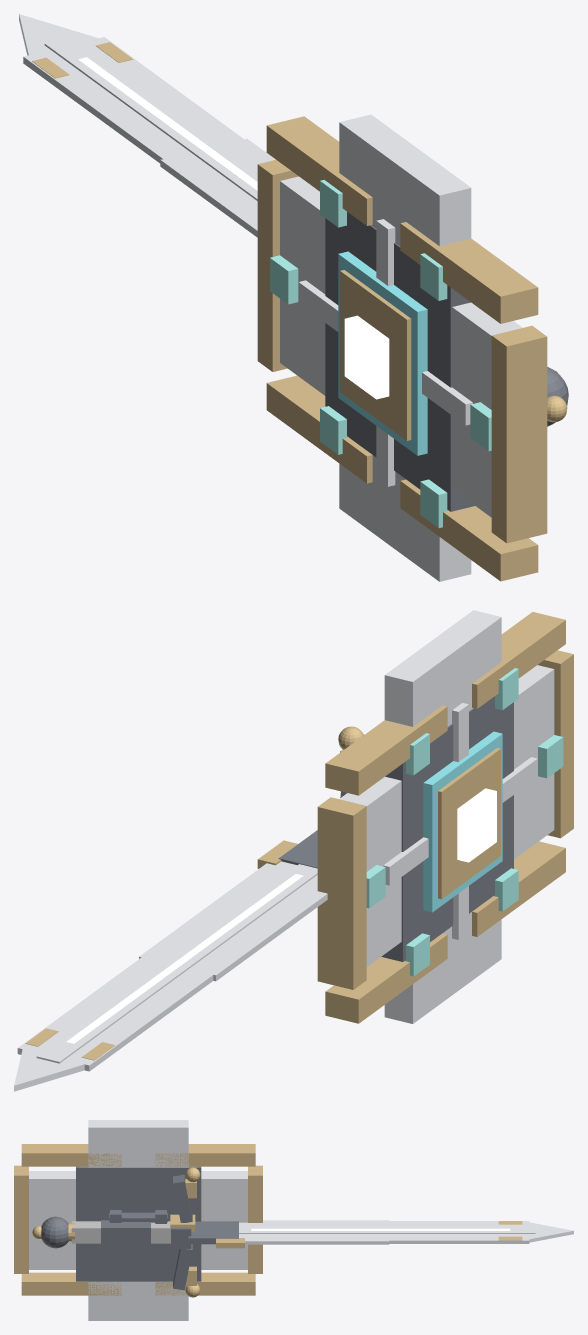
File: art_resonant_bulwark.fbx
3 renders of one model, top to bottom at view 1: azimuth 30°, elevation 25°; view 2: azimuth 150°, elevation 25°; view 3: azimuth 270°, elevation 25°, orthographic. The views are drawn at different scales.
Visible parts, largest first — view 1: BronzeRimBot, CenterDiaphragm, OuterPlateL, OuterPlateTop, OuterPlateBot, OuterPlateR, BronzeRimBL, SpeakerHorn, OffhandShield, BronzeRimBR, BronzeRimTL, SonicWaveRing1 (+15 smaller); view 2: CenterDiaphragm, BronzeRimTop, OuterPlateL, OuterPlateBot, OuterPlateTop, BladeFuller, BronzeRimTL, OuterPlateR, SpeakerHorn, OffhandShield, BronzeRimTR, EdgeBack1 (+16 smaller); view 3: CenterDiaphragm, OuterPlateL, OuterPlateR, OuterPlateBot, OuterPlateTop, BronzeRimBL, BronzeRimTL, BronzeRimBR, BladeFuller, BronzeRimTR, BronzeRimBot, EdgeFwd1 (+16 smaller).
Part boxes in pixels (x1,y1,x2,y2): BronzeRimBot: (491, 325, 547, 543); CenterDiaphragm: (325, 212, 474, 511); OuterPlateL: (339, 114, 471, 246); OuterPlateTop: (280, 176, 325, 395); OuterPlateBot: (452, 302, 522, 517); OuterPlateR: (339, 443, 471, 581); BronzeRimBL: (400, 222, 538, 323); SpeakerHorn: (340, 270, 411, 440); OffhandShield: (270, 180, 491, 528); BronzeRimBR: (400, 479, 538, 581); BronzeRimTL: (266, 116, 372, 225); SonicWaveRing1: (338, 251, 427, 455); CenterDiaphragm: (381, 696, 513, 961); BronzeRimTop: (317, 797, 366, 989); OuterPlateL: (384, 610, 501, 726); OuterPlateBot: (514, 665, 554, 859); OuterPlateTop: (339, 776, 401, 966); BladeFuller: (36, 864, 317, 1063); BronzeRimTL: (325, 705, 447, 795); OuterPlateR: (384, 912, 501, 1023); SpeakerHorn: (438, 748, 500, 899); OffhandShield: (366, 668, 563, 976); BronzeRimTR: (325, 933, 447, 1023); EdgeBack1: (195, 875, 327, 981); CenterDiaphragm: (76, 1166, 201, 1281); OuterPlateL: (88, 1120, 188, 1167); OuterPlateR: (88, 1281, 188, 1320); OuterPlateBot: (29, 1171, 75, 1269); OuterPlateTop: (201, 1171, 247, 1269); BronzeRimBL: (21, 1144, 121, 1166); BronzeRimTL: (155, 1144, 255, 1166); BronzeRimBR: (21, 1272, 121, 1295); BladeFuller: (239, 1226, 535, 1233); BronzeRimTR: (155, 1272, 255, 1295); BronzeRimBot: (14, 1165, 28, 1273); EdgeFwd1: (239, 1234, 389, 1244).
Size of the model in its own units: 1.02 by 2.55 by 6.7.
